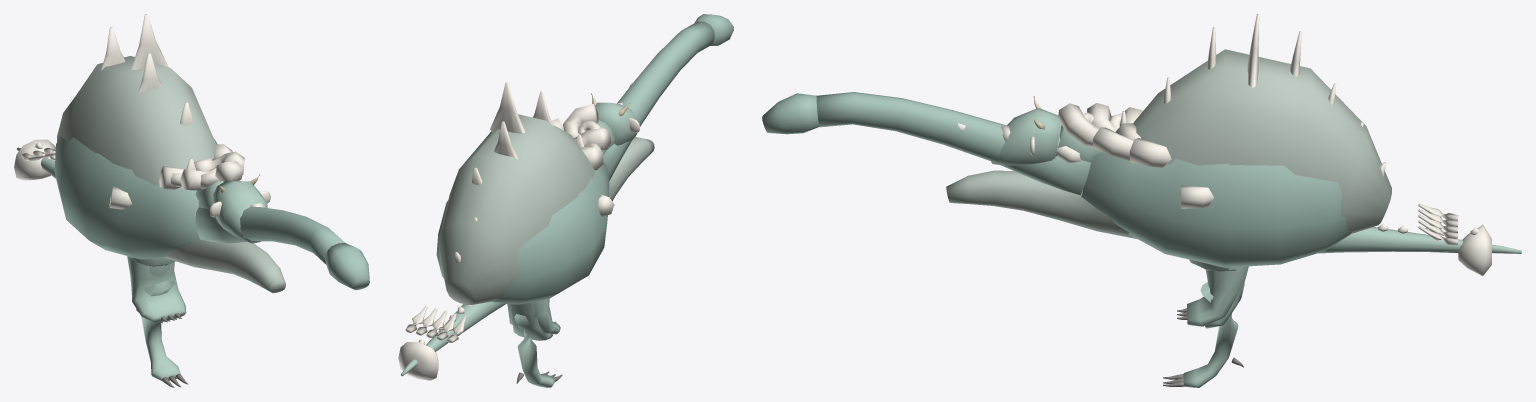
File: saurian-kit.glb
3 views of the same model, side by side, from view 1: azimuth 30°, elevation 25°; view 2: azimuth 150°, elevation 25°; view 3: azimuth 270°, elevation 25° (orthographic). The views are drawn at different scales.
Parts seen in each view (by area): view 1: spiky_body, plump_body, plump_neck, legs_paddles_limb, legs_stilts_limb, sleek_head, plump_head, tail_club_club, spiky_plate_3, sleek_shell_0, sleek_shell_2, spiky_plate_4 (+5 smaller); view 2: spiky_body, plump_body, plump_neck, tail_club_club, legs_stilts_limb, tail_fan, tail_whip_body, sleek_head, spiky_plate_3, sleek_shell_0, legs_stubby_limb, plump_head (+5 smaller); view 3: spiky_body, plump_body, plump_neck, sleek_head, tail_whip_body, legs_paddles_limb, plump_head, legs_stilts_limb, tail_club_club, tail_fan, sleek_shell_0, sleek_shell_3 (+2 smaller).
Part boxes in pixels (box(x1,y1,x2,y2)): spiky_body: box(57, 56, 285, 293); plump_body: box(54, 136, 217, 259); plump_neck: box(195, 206, 344, 264); legs_paddles_limb: box(127, 256, 186, 322); legs_stilts_limb: box(129, 256, 180, 380); sleek_head: box(212, 180, 267, 243); plump_head: box(325, 243, 369, 289); tail_club_club: box(14, 139, 55, 180); spiky_plate_3: box(131, 14, 168, 69); sleek_shell_0: box(200, 161, 243, 189); sleek_shell_2: box(170, 169, 209, 190); spiky_plate_4: box(101, 27, 125, 70); spiky_body: box(438, 114, 654, 304); plump_body: box(436, 161, 609, 304); plump_neck: box(603, 21, 714, 180); tail_club_club: box(398, 342, 438, 380); legs_stilts_limb: box(514, 314, 555, 387); tail_fan: box(405, 306, 466, 342); tail_whip_body: box(401, 302, 506, 376); sleek_head: box(595, 102, 638, 145); spiky_plate_3: box(490, 82, 525, 133); sleek_shell_0: box(563, 104, 601, 137); legs_stubby_limb: box(509, 302, 552, 340); plump_head: box(694, 14, 733, 45); spiky_body: box(946, 49, 1391, 238); plump_body: box(1081, 152, 1351, 267); plump_neck: box(816, 92, 1090, 195); sleek_head: box(990, 108, 1061, 165); tail_whip_body: box(1318, 227, 1521, 253); legs_paddles_limb: box(1187, 266, 1245, 326); plump_head: box(762, 93, 819, 134); legs_stilts_limb: box(1183, 259, 1244, 387); tail_club_club: box(1458, 224, 1491, 276); tail_fan: box(1418, 203, 1458, 244); sleek_shell_0: box(1057, 103, 1099, 147); sleek_shell_3: box(1129, 138, 1171, 167).
Size of the model in its own units: 1.02 by 2.34 by 4.32.
